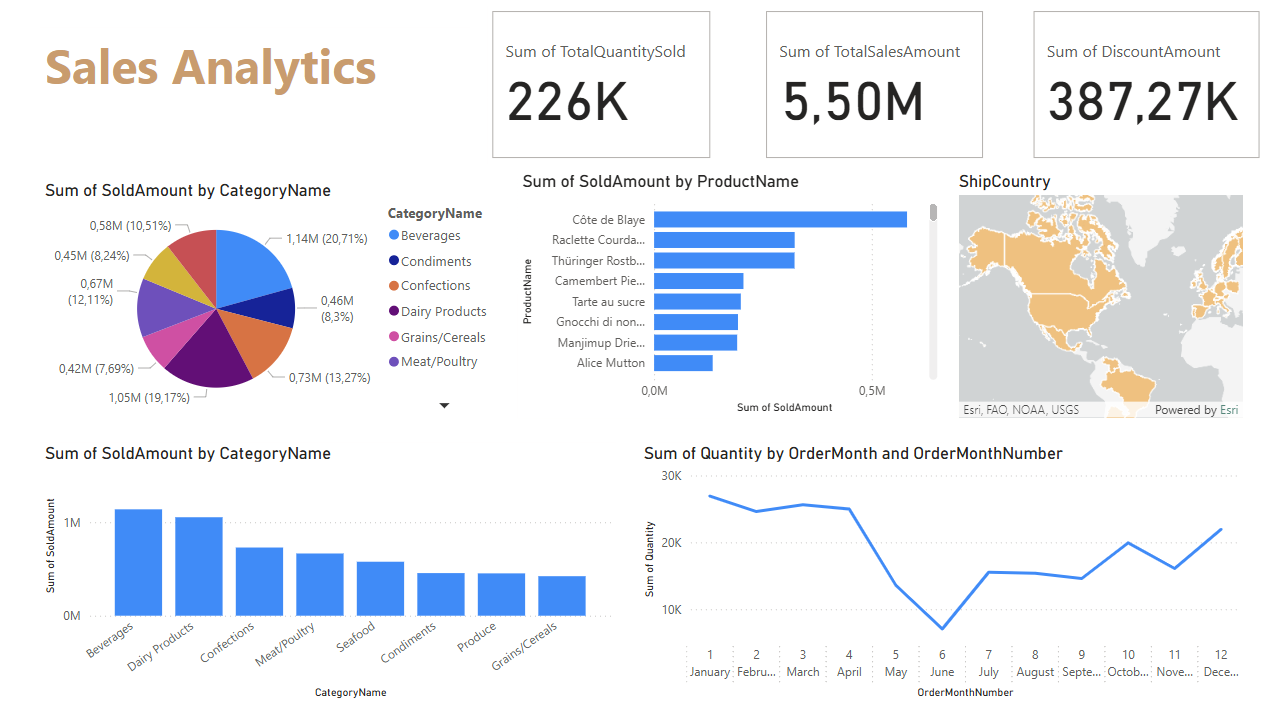

What the dashboard file says about the page in this screenshot:
{"tool":"powerbi","page":{"name":"Page 1","canvas":[1280,720],"ordinal":0},"visuals":[{"type":"cardVisual","fields":{"Data":["Sum(gold vw_TopSellingProducts.TotalSalesAmount)"]},"box":[766.2,11.2,227.5,157.5],"z":0},{"type":"cardVisual","fields":{"Data":["Sum(gold vw_TopSellingProducts.TotalQuantitySold)"]},"box":[492.5,11.2,228.8,157.5],"z":1000},{"type":"pieChart","fields":{"Y":["Sum(gold vw_SalesReporting.SoldAmount)"],"Series":["gold vw_SalesReporting.CategoryName"]},"box":[45,185,463.8,238.8],"z":2000},{"type":"lineStackedColumnComboChart","fields":{"Category":["gold vw_SalesReporting.CategoryName"],"Y":["Sum(gold vw_SalesReporting.SoldAmount)"]},"box":[45,447.5,576.2,261.2],"z":5000},{"type":"esriVisual","fields":{"Location":["gold vw_OrderFulfillment.ShipCountry"]},"box":[958.8,176.2,295,247.5],"z":6000},{"type":"lineChart","fields":{"Category":["gold vw_SalesAnalytics.OrderMonth","gold vw_SalesAnalytics.OrderMonthNumber"],"Y":["Sum(gold vw_SalesAnalytics.Quantity)"]},"box":[643.8,447.5,606.2,261.2],"z":6001},{"type":"cardVisual","fields":{"Data":["Sum(gold vw_SalesAnalytics.DiscountAmount)"]},"box":[1033.8,11.2,236.2,157.5],"z":6004},{"type":"textbox","box":[45,32.5,430,91.2],"z":6005},{"type":"clusteredBarChart","fields":{"Y":["Sum(gold vw_SalesReporting.SoldAmount)"],"Category":["gold vw_SalesReporting.ProductName"]},"box":[522.5,176.2,425,247.5],"z":6006}]}

Visuals, with their boxes in screenshot pixels (x1, y1, x2, y2), scaled from the page's 1280x720 canvas onto the 1273x704 screenshot:
cardVisual - Sum(gold vw_TopSellingProducts.TotalSalesAmount): 762/11/988/165
cardVisual - Sum(gold vw_TopSellingProducts.TotalQuantitySold): 490/11/717/165
pieChart - Sum(gold vw_SalesReporting.SoldAmount) x gold vw_SalesReporting.CategoryName: 45/181/506/414
lineStackedColumnComboChart - gold vw_SalesReporting.CategoryName x Sum(gold vw_SalesReporting.SoldAmount): 45/438/618/693
esriVisual - gold vw_OrderFulfillment.ShipCountry: 954/172/1247/414
lineChart - gold vw_SalesAnalytics.OrderMonth x gold vw_SalesAnalytics.OrderMonthNumber: 640/438/1243/693
cardVisual - Sum(gold vw_SalesAnalytics.DiscountAmount): 1028/11/1263/165
textbox: 45/32/472/121
clusteredBarChart - Sum(gold vw_SalesReporting.SoldAmount) x gold vw_SalesReporting.ProductName: 520/172/942/414
